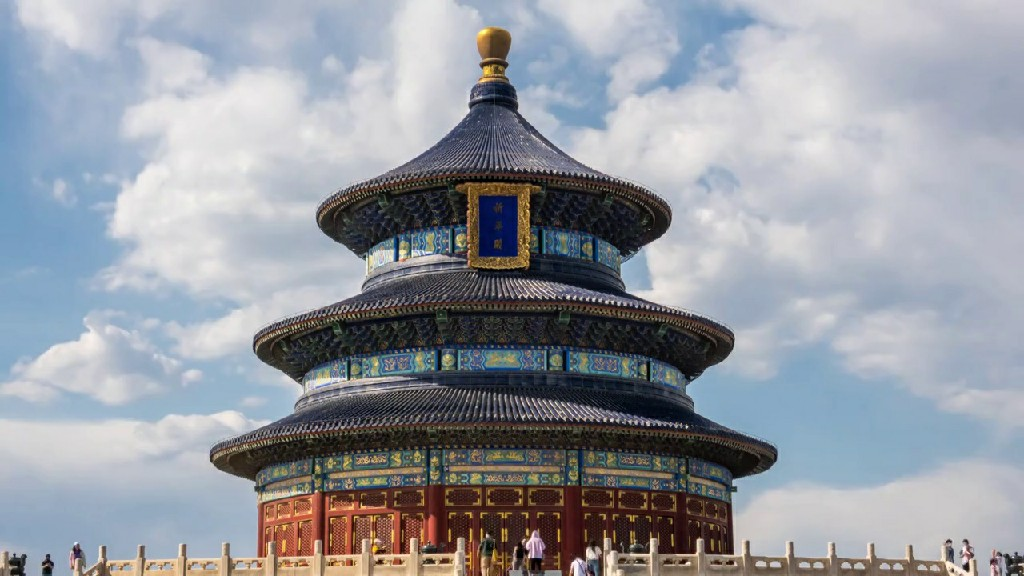Heaven: (209, 26, 779, 564)
